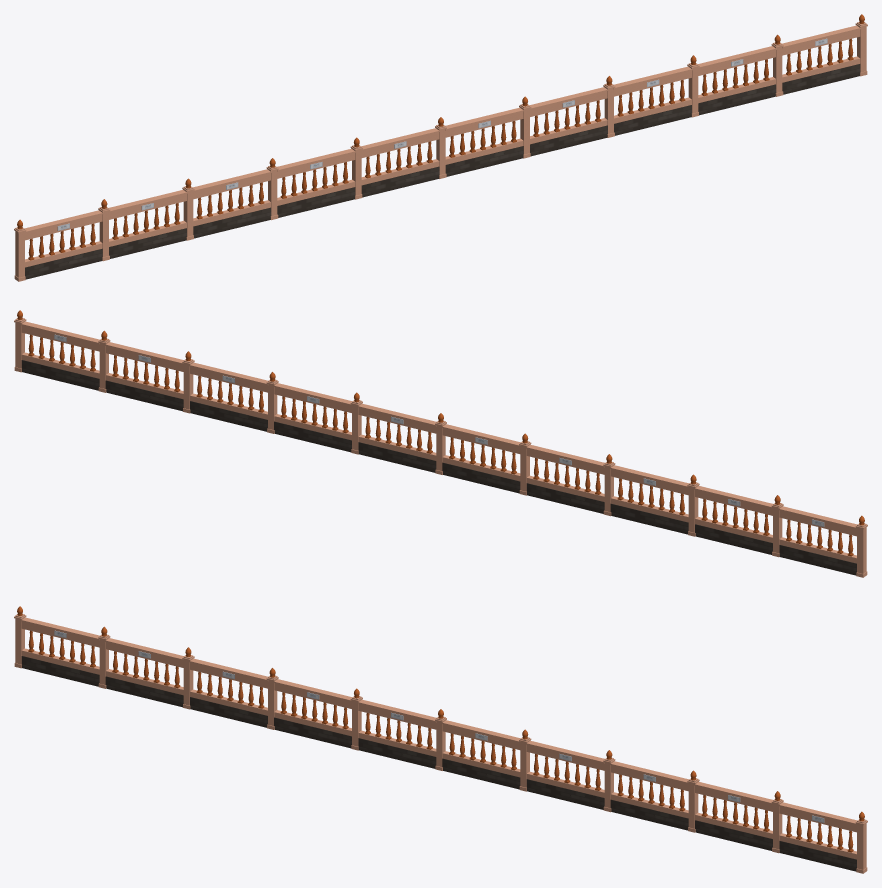
The model's file is temple_wall.glb.
3 views of the same model, one above another, from view 1: azimuth 30°, elevation 25°; view 2: azimuth 150°, elevation 25°; view 3: azimuth 330°, elevation 25° (orthographic).
Visible parts, largest first — view 1: FenceBay_5, FenceBay_6, FenceBay_10, FenceBay_4, FenceBay_7, FenceBay_8, FenceBay_2, FenceBay_9, FenceBay_1, FenceBay_3, BaseWall_6, BaseWall_3 (+9 smaller); view 2: FenceBay_5, FenceBay_6, FenceBay_10, FenceBay_4, FenceBay_7, FenceBay_8, FenceBay_2, FenceBay_9, FenceBay_3, FenceBay_1, BaseWall_6, BaseWall_3 (+9 smaller); view 3: FenceBay_6, FenceBay_5, FenceBay_1, FenceBay_7, FenceBay_3, FenceBay_4, FenceBay_9, FenceBay_2, FenceBay_8, FenceBay_10, BaseWall_5, BaseWall_1 (+9 smaller).
Part boxes in pixels (bbox=[...]): FenceBay_5: bbox=[361, 128, 439, 185]; FenceBay_6: bbox=[445, 107, 524, 164]; FenceBay_10: bbox=[782, 25, 860, 82]; FenceBay_4: bbox=[277, 148, 355, 205]; FenceBay_7: bbox=[529, 87, 608, 144]; FenceBay_8: bbox=[613, 66, 692, 123]; FenceBay_2: bbox=[108, 190, 187, 246]; FenceBay_9: bbox=[698, 46, 776, 103]; FenceBay_1: bbox=[24, 210, 103, 267]; FenceBay_3: bbox=[193, 169, 271, 226]; BaseWall_6: bbox=[445, 146, 523, 176]; BaseWall_3: bbox=[193, 207, 271, 238]; FenceBay_5: bbox=[442, 424, 520, 481]; FenceBay_6: bbox=[357, 403, 436, 460]; FenceBay_10: bbox=[21, 321, 99, 378]; FenceBay_4: bbox=[526, 444, 604, 501]; FenceBay_7: bbox=[273, 383, 352, 440]; FenceBay_8: bbox=[189, 362, 268, 419]; FenceBay_2: bbox=[694, 486, 773, 542]; FenceBay_9: bbox=[105, 342, 183, 399]; FenceBay_3: bbox=[610, 465, 688, 522]; FenceBay_1: bbox=[778, 506, 857, 563]; BaseWall_6: bbox=[358, 442, 436, 472]; BaseWall_3: bbox=[610, 503, 688, 534]; FenceBay_6: bbox=[442, 720, 520, 777]; FenceBay_5: bbox=[357, 699, 436, 756]; FenceBay_1: bbox=[21, 617, 99, 674]; FenceBay_7: bbox=[526, 740, 604, 797]; FenceBay_3: bbox=[189, 658, 268, 715]; FenceBay_4: bbox=[273, 679, 352, 736]; FenceBay_9: bbox=[694, 782, 773, 838]; FenceBay_2: bbox=[105, 638, 183, 695]; FenceBay_8: bbox=[610, 761, 688, 818]; FenceBay_10: bbox=[778, 802, 857, 859]; BaseWall_5: bbox=[358, 738, 436, 768]; BaseWall_1: bbox=[21, 656, 99, 686].
Bounding box in the file's own units: 25.23 × 1.7 × 0.23.
4 materials, 4 textured.
